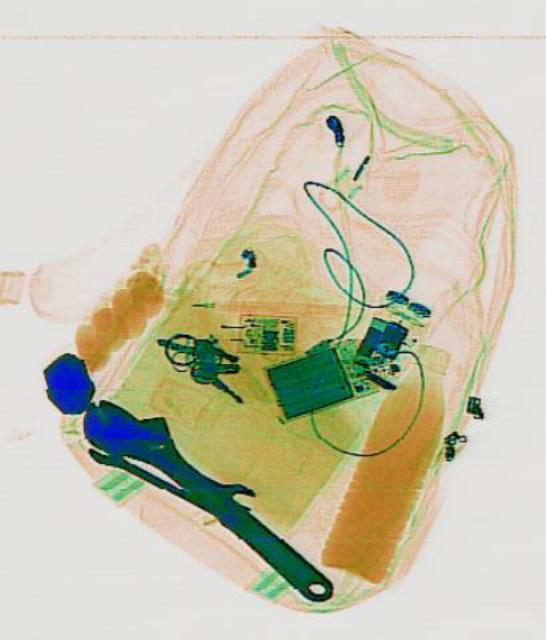Wrench: (70, 374, 349, 616)
